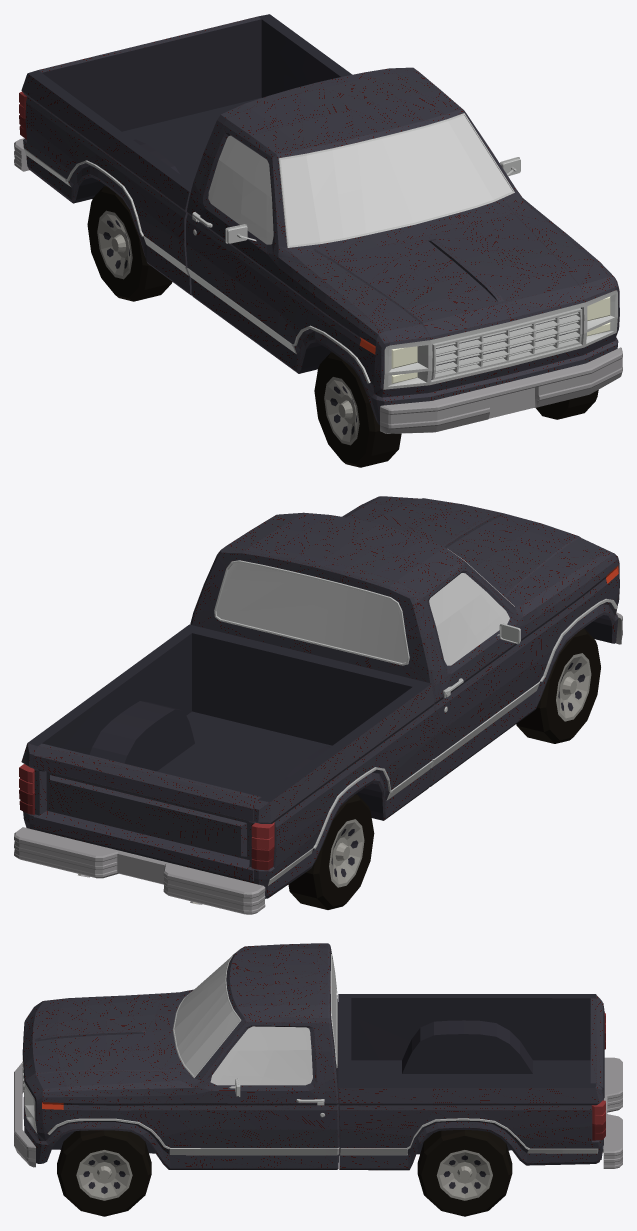
The model's file is truck.obj.
The picture shows the model from 3 angles, top to bottom: view 1: azimuth 30°, elevation 25°; view 2: azimuth 150°, elevation 25°; view 3: azimuth 270°, elevation 25°; orthographic projection. The views are drawn at different scales.
Size of the model in its own units: 26.88 by 21.93 by 60.64.
